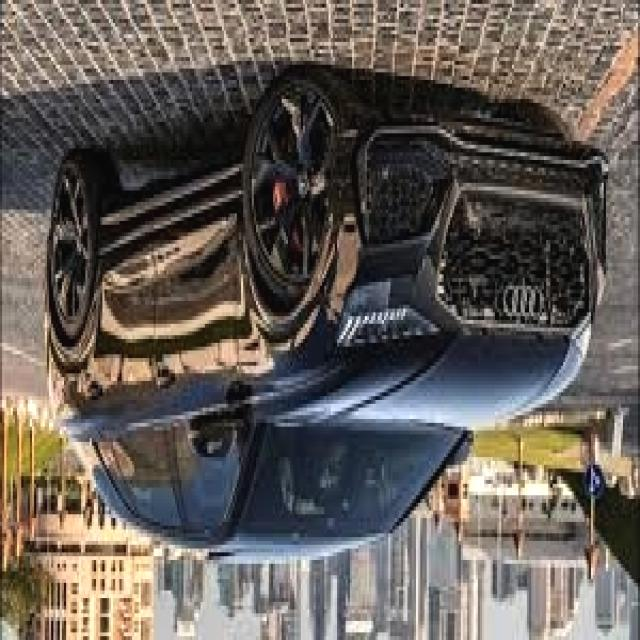black: (35, 116, 616, 556)
